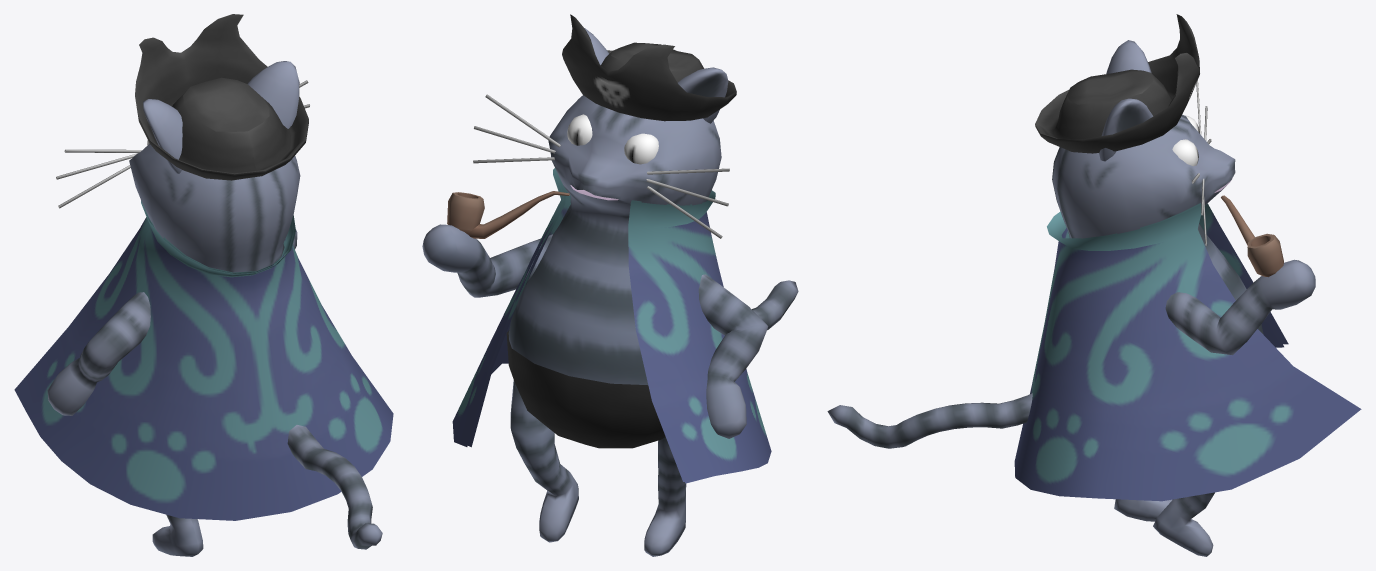
The model's file is neko_walk_a_04.fbx.
3 views of the same model, side by side, from view 1: azimuth 30°, elevation 25°; view 2: azimuth 150°, elevation 25°; view 3: azimuth 270°, elevation 25° (orthographic). The views are drawn at different scales.
Visible parts, largest first — view 1: W_a_04; view 2: W_a_04; view 3: W_a_04.
Part boxes in pixels (bbox=[...]): W_a_04: bbox=[14, 14, 393, 556]; W_a_04: bbox=[422, 14, 798, 556]; W_a_04: bbox=[827, 14, 1361, 556].
Bounding box in the file's own units: 1.2 × 1.99 × 1.93.
1 material, 1 textured.
